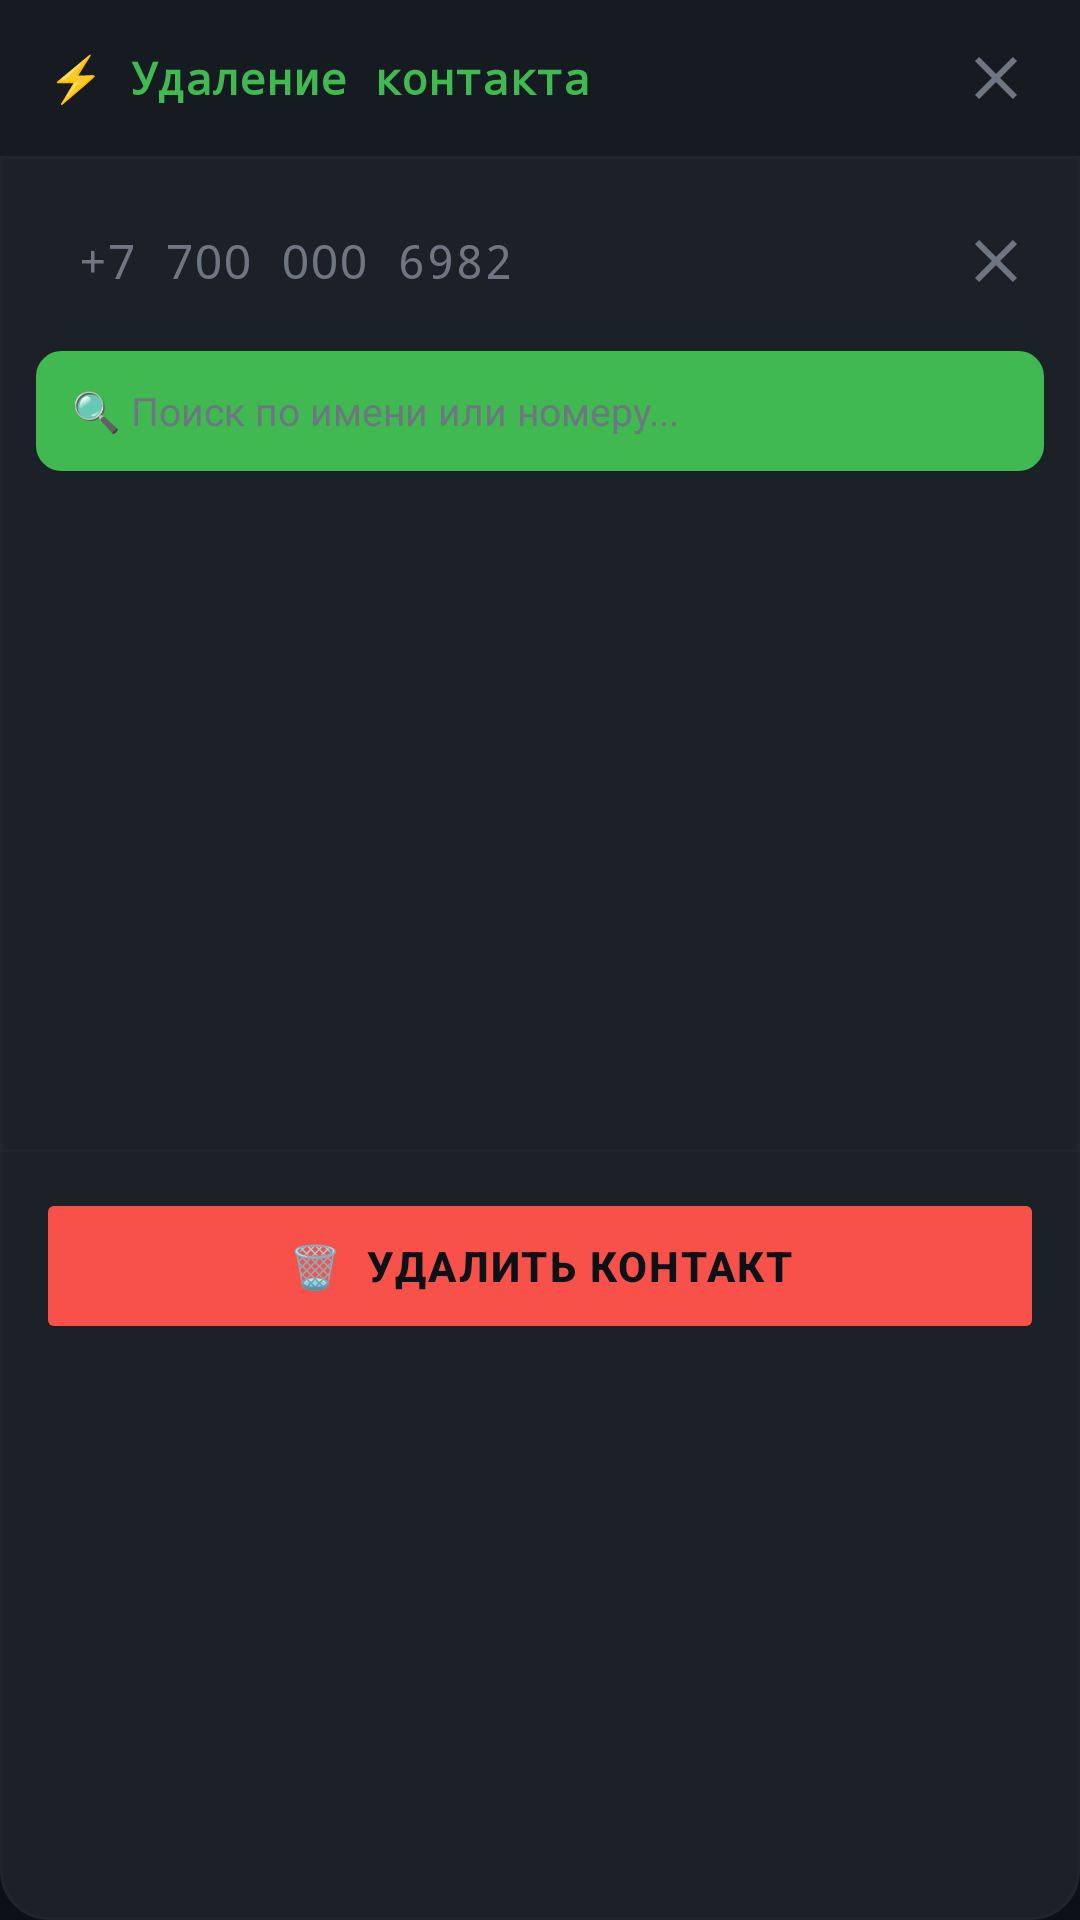

Where icons sit on this 1080w x 1920h app screen, as (x1, y1, x2, y2):
close: (975, 57, 1017, 99), (975, 240, 1017, 282)
